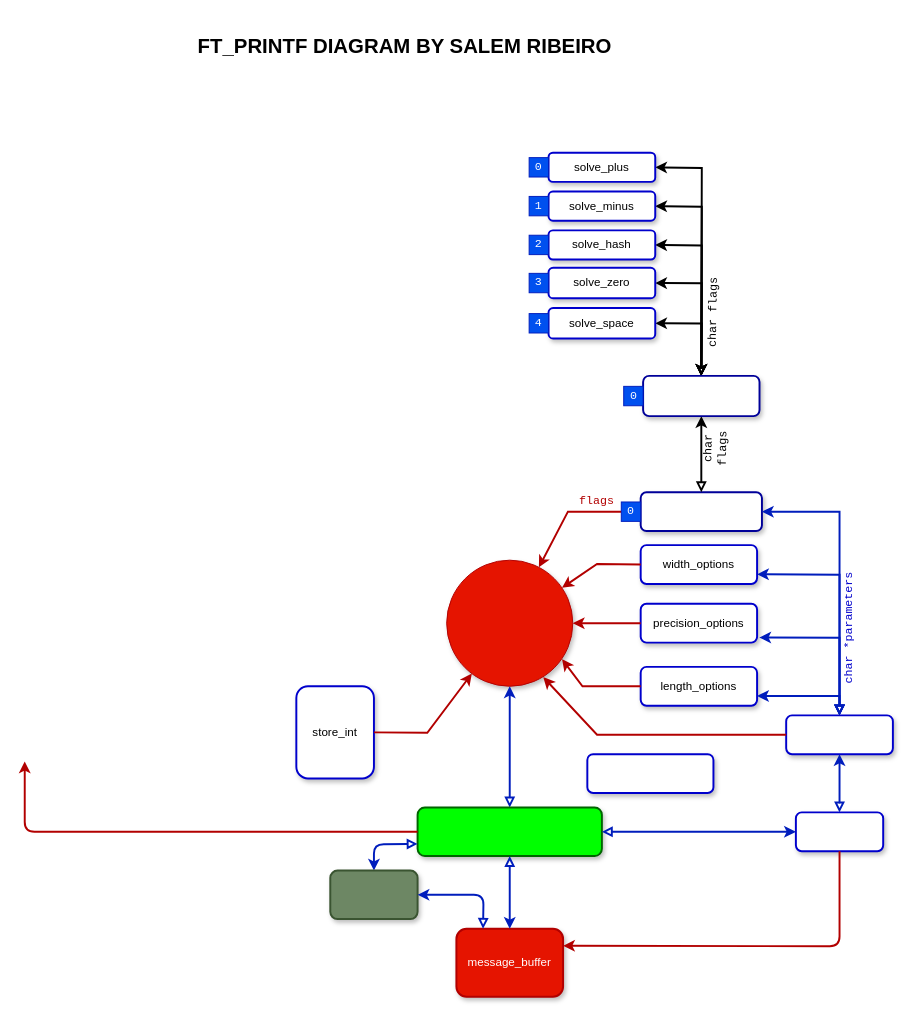
Image size: 916x1021. Some labels were removed from this diagram. Each missing label, with the centre of its shape:
flag_options: point 701,512
ft_printf: point 510,832
ft_printstr: point 374,895
message_arg_solve: point 651,774
search_persent: point 840,832
solve_incompatible: point 702,397
specifier_options: point 840,735
struct parameters: point 510,624
